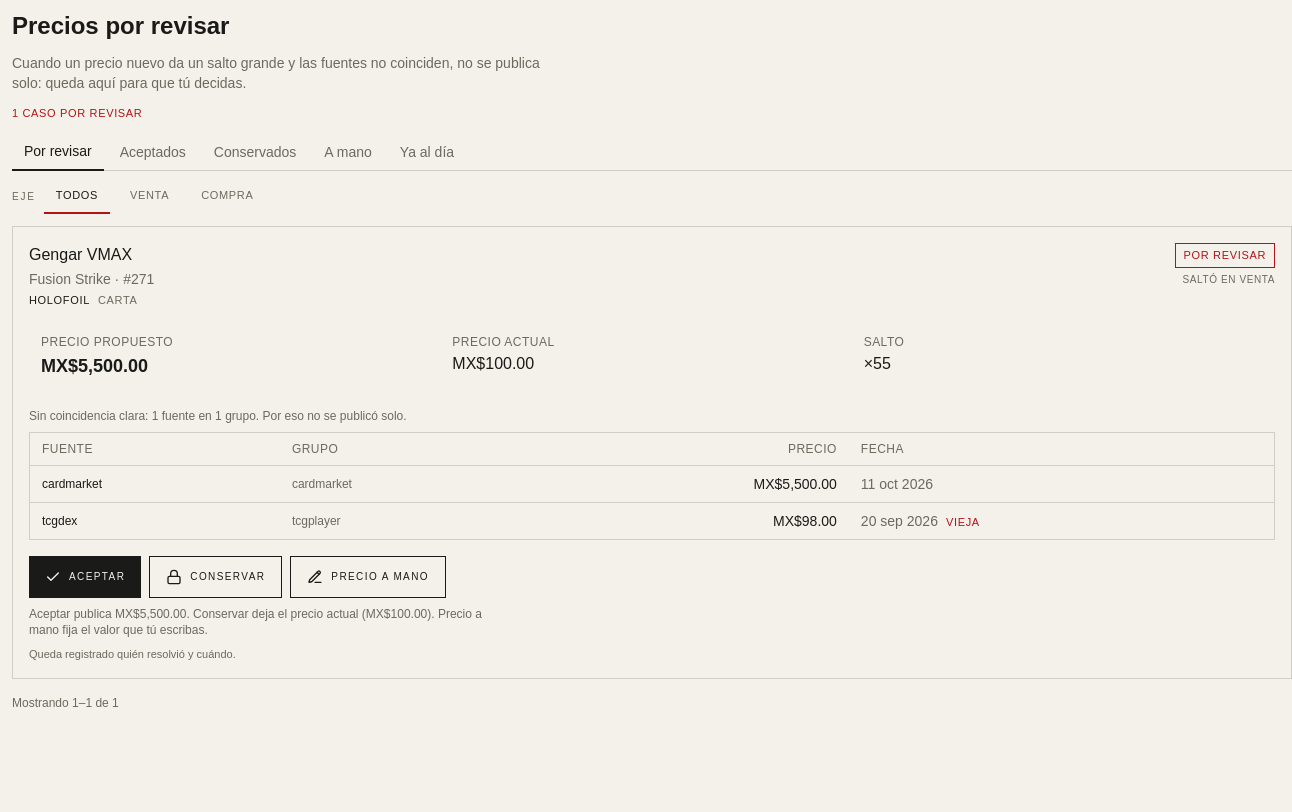
it: §PRE · Precios por revisar › un 409 CONFLICT muestra el aviso de «ya se resolvió»
Expected: the element with test id "price-review-case-prc-1" is shown, left=12, top=226, right=1291, bottom=679
Step 1. Click the button "Conservar" → coordinates (216, 577), box left=149, top=556, right=282, bottom=598
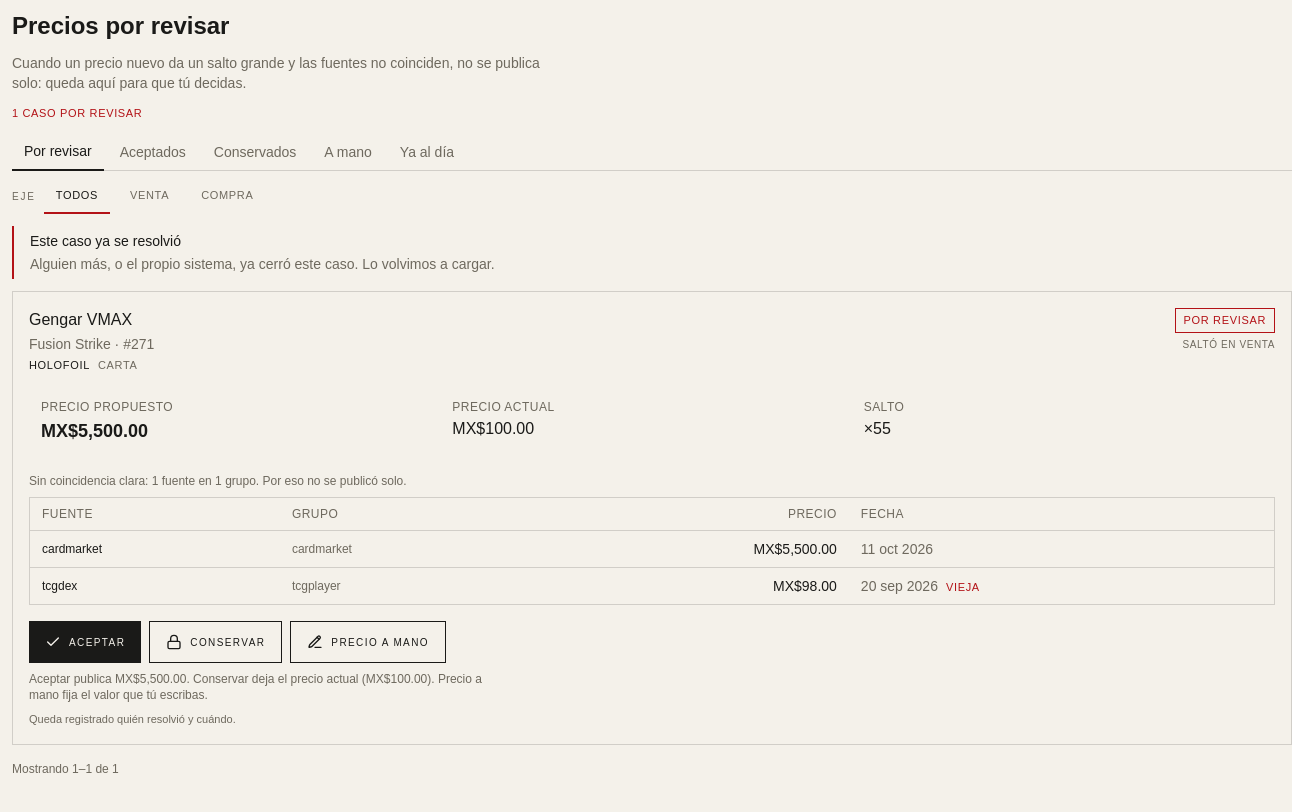
Expected: the text "Este caso ya se resolvió" is shown, left=30, top=233, right=181, bottom=249
